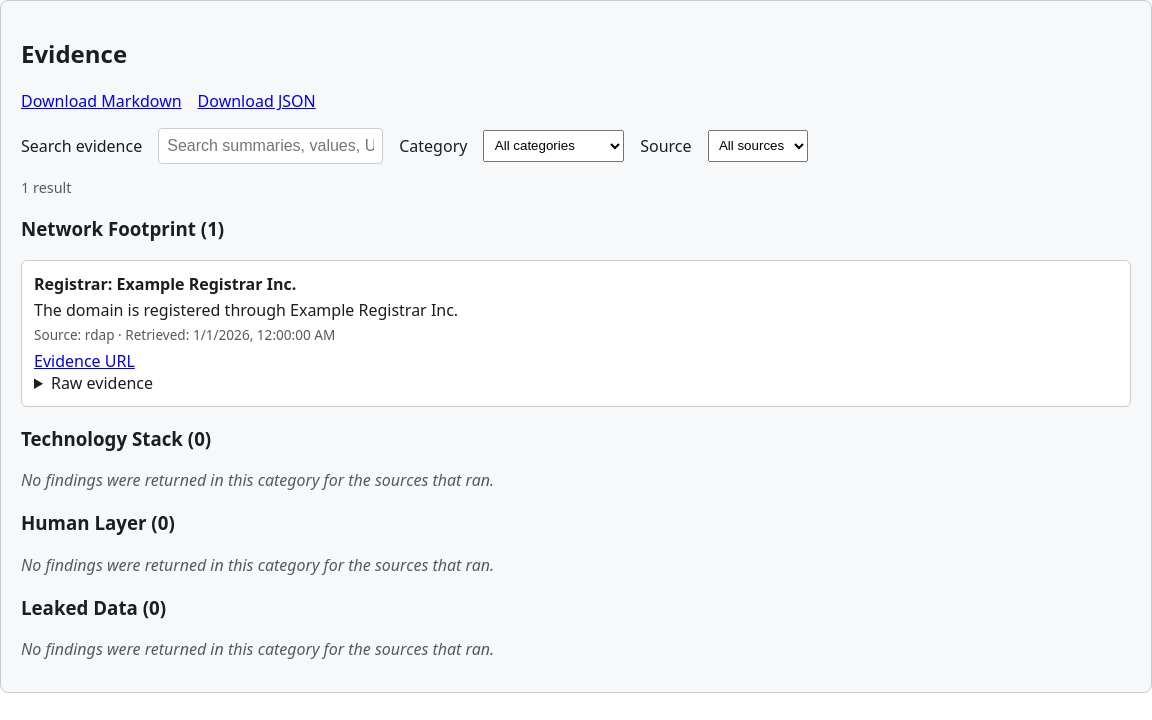
it: FindingsView › renders raw evidence as inert text behind a disclosure, never as HTML
Click the heading "Raw evidence". click: x=102, y=383
box: [51,372,153,394]
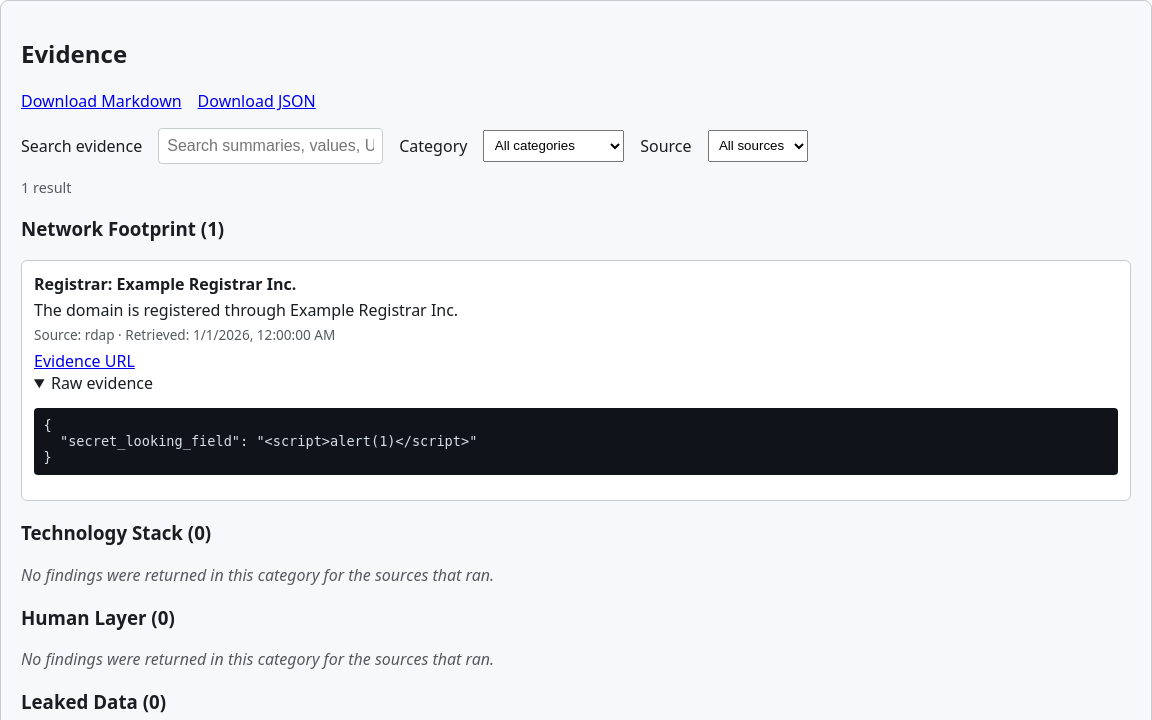
expect the text "{ \"secret_looking_field\": \"<script>alert(1)</script>\" }" is shown: met, box [34,408,1118,475]
